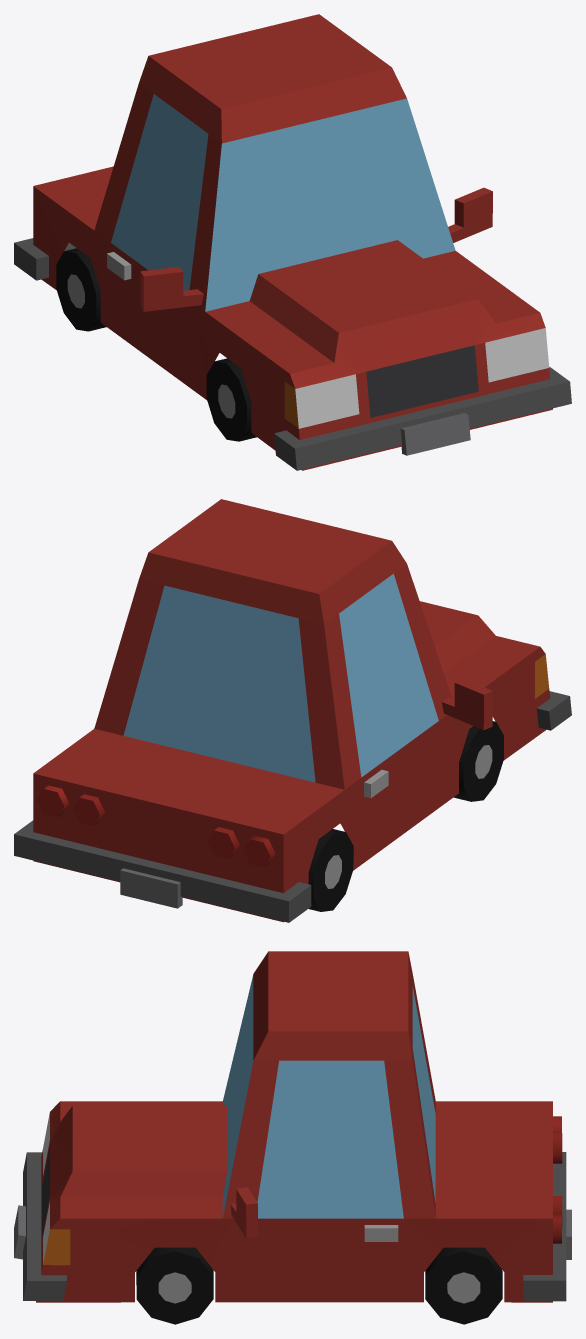
Rendered from Car_02_red.fbx.
3 renders of one model, top to bottom at view 1: azimuth 30°, elevation 25°; view 2: azimuth 150°, elevation 25°; view 3: azimuth 270°, elevation 25°, orthographic. The views are drawn at different scales.
Visible parts, largest first — view 1: Car_02_red; view 2: Car_02_red; view 3: Car_02_red.
Boxes of the visible parts, x1,y1,x2,y2 form: Car_02_red: (14,14,571,470); Car_02_red: (14,499,571,922); Car_02_red: (14,951,571,1324).
Bounding box in the file's own units: 60.1 × 46.79 × 86.64.
